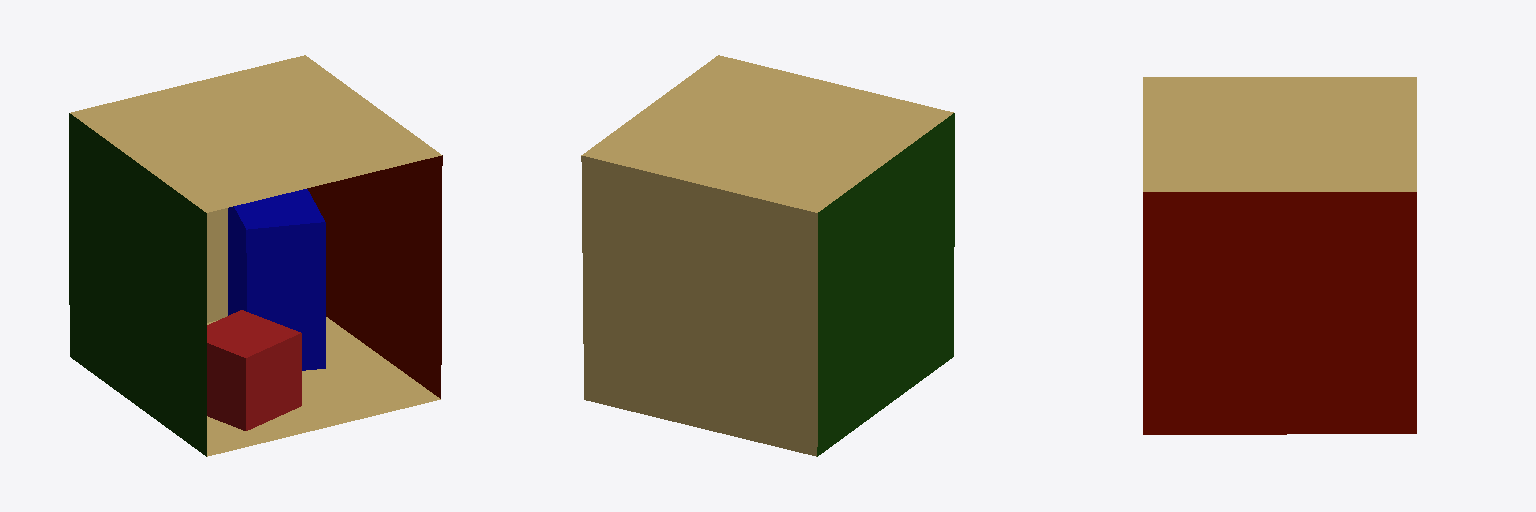
Rendered from cornellbox-alpha.obj.
The picture shows the model from 3 angles: view 1: azimuth 30°, elevation 25°; view 2: azimuth 150°, elevation 25°; view 3: azimuth 270°, elevation 25°; orthographic projection.
Bounding box in the file's own units: 0.7808 × 0.7709 × 0.7855.